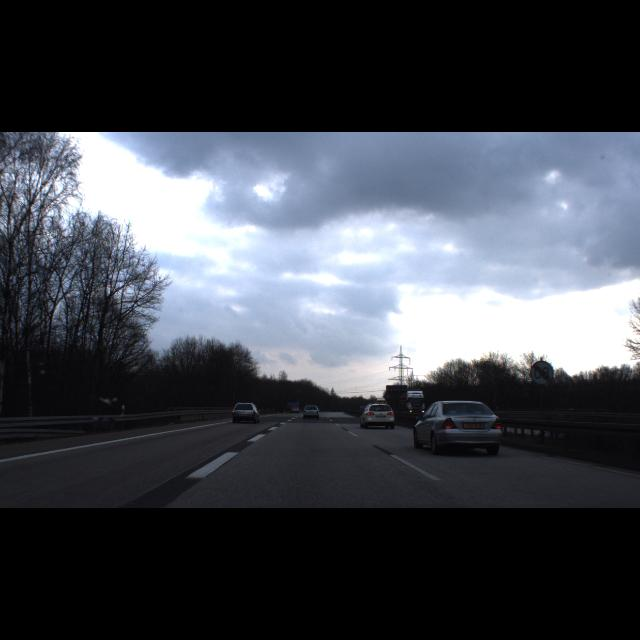other: (530, 360, 554, 386), (0, 358, 6, 382)
